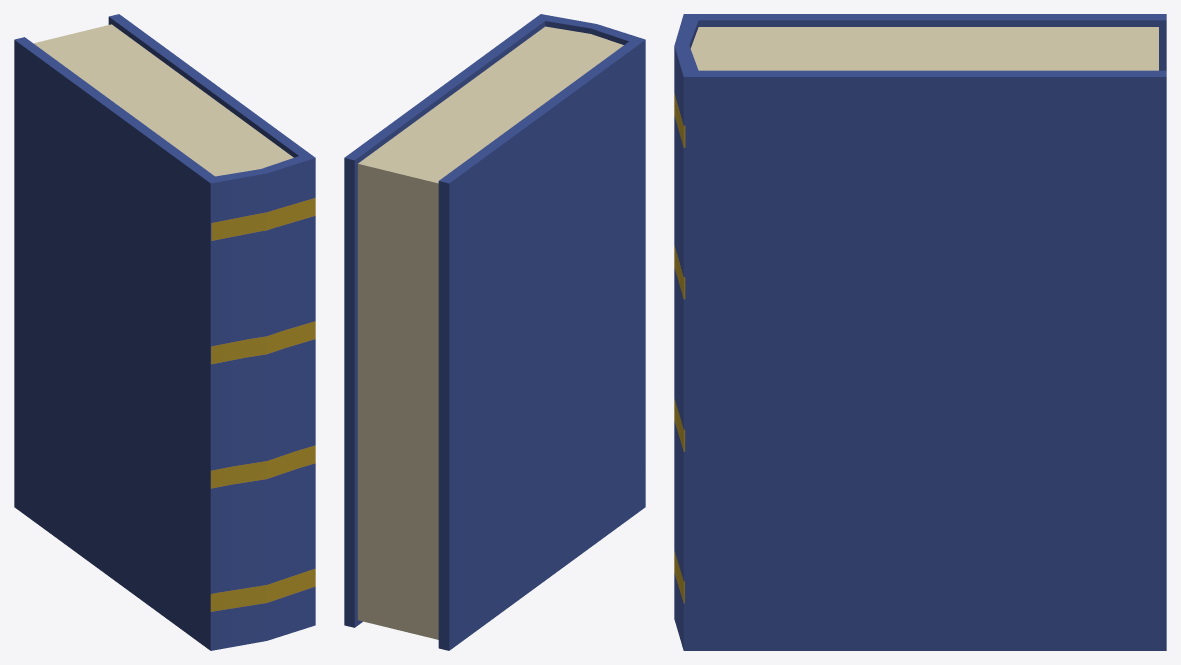
Rendered from book4.fbx.
The picture shows the model from 3 angles, left to right: view 1: azimuth 30°, elevation 25°; view 2: azimuth 150°, elevation 25°; view 3: azimuth 270°, elevation 25°; orthographic projection. The views are drawn at different scales.
Parts seen in each view (by area): view 1: Book4; view 2: Book4; view 3: Book4.
Boxes of the visible parts, x1=… form: Book4: x1=14, y1=14, x2=315, y2=650; Book4: x1=344, y1=14, x2=645, y2=650; Book4: x1=674, y1=14, x2=1166, y2=650.
Size of the model in its own units: 50 by 213 by 165.
Materials: 1 (1 with a texture image).
